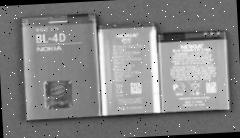electronic: (15, 9, 101, 128), (156, 20, 238, 121), (92, 16, 162, 126)
